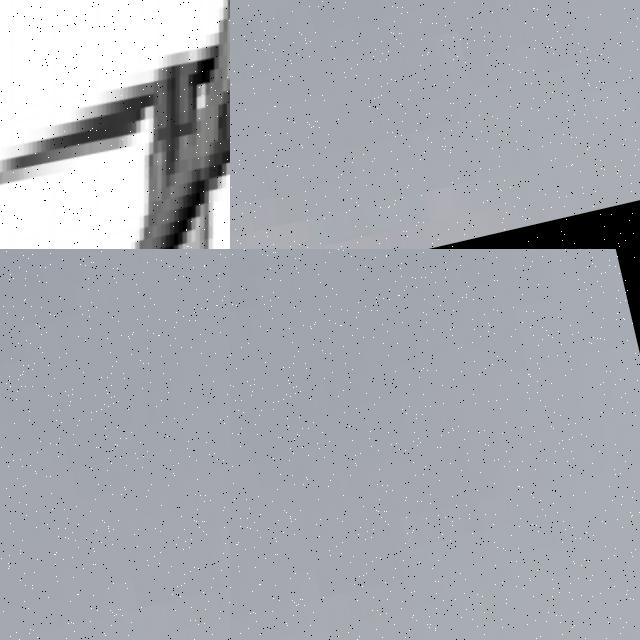drone: (0, 0, 230, 249)
